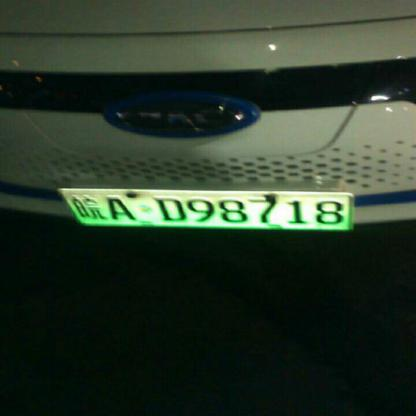lp: (58, 188, 350, 228)
